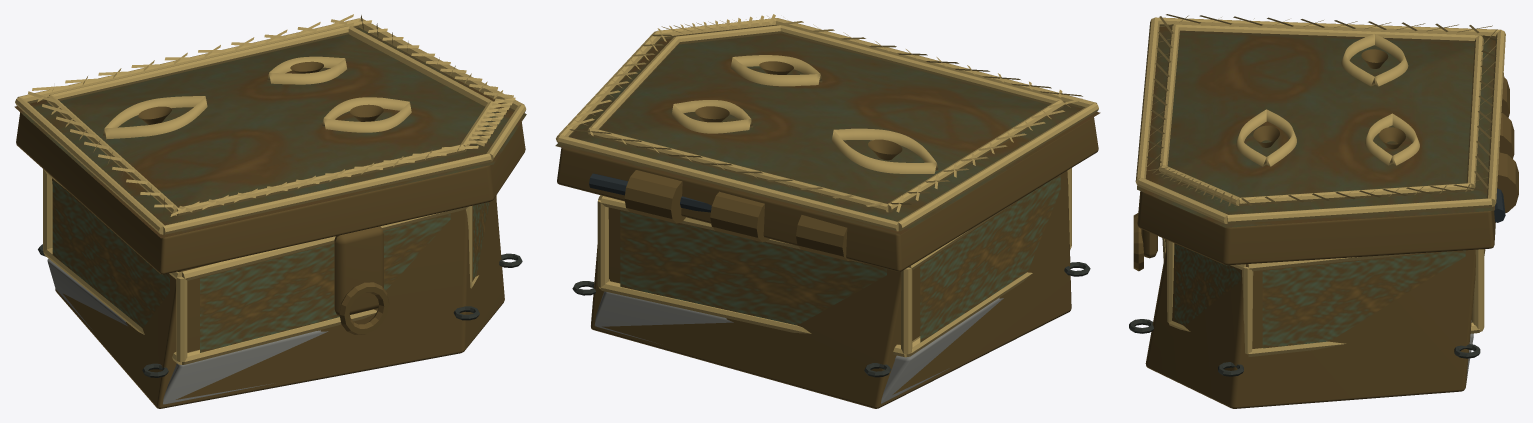
The picture shows the model from 3 angles, left to right: view 1: azimuth 30°, elevation 25°; view 2: azimuth 150°, elevation 25°; view 3: azimuth 270°, elevation 25°; orthographic projection. The views are drawn at different scales.
Visible parts, largest first — view 1: domed sculptural lid relief, five sided leaning bronze shell, lopsided overhanging lid skirt, carved writhing side panel 0, carved writhing side panel 4, adhered silt below tide line, old hasp plate, outer raised lid border, inner raised lid border.003, outer raised lid border.004, inner raised lid border, raised side panel frame.001 (+17 smaller); view 2: domed sculptural lid relief, five sided leaning bronze shell, carved writhing side panel 3, lopsided overhanging lid skirt, carved writhing side panel 4, adhered silt below tide line, outer raised lid border.003, inner raised lid border, inner raised lid border.003, bronze hinge knuckle, outer raised lid border.004, bronze hinge knuckle.001 (+20 smaller); view 3: domed sculptural lid relief, five sided leaning bronze shell, lopsided overhanging lid skirt, carved writhing side panel 2, carved writhing side panel 1, outer raised lid border.002, inner raised lid border.004, outer raised lid border.004, inner raised lid border.002, outer raised lid border.003, outer raised lid border, inner raised lid border.003 (+21 smaller).
Part boxes in pixels (bbox=[...]): domed sculptural lid relief: bbox=[14, 27, 526, 238]; five sided leaning bronze shell: bbox=[52, 178, 504, 408]; lopsided overhanging lid skirt: bbox=[16, 112, 525, 274]; carved writhing side panel 0: bbox=[200, 213, 450, 352]; carved writhing side panel 4: bbox=[52, 180, 169, 328]; adhered silt below tide line: bbox=[47, 259, 328, 404]; old hasp plate: bbox=[334, 226, 383, 315]; outer raised lid border: bbox=[163, 153, 491, 234]; inner raised lid border.003: bbox=[49, 26, 349, 100]; outer raised lid border.004: bbox=[15, 97, 164, 234]; inner raised lid border: bbox=[177, 144, 464, 215]; raised side panel frame.001: bbox=[182, 206, 467, 280]; domed sculptural lid relief: bbox=[555, 33, 1100, 234]; five sided leaning bronze shell: bbox=[591, 171, 1071, 408]; carved writhing side panel 3: bbox=[620, 210, 886, 325]; lopsided overhanging lid skirt: bbox=[557, 117, 1098, 271]; carved writhing side panel 4: bbox=[920, 175, 1060, 342]; adhered silt below tide line: bbox=[594, 291, 1003, 403]; outer raised lid border.003: bbox=[558, 135, 898, 231]; inner raised lid border: bbox=[780, 25, 1062, 104]; inner raised lid border.003: bbox=[589, 128, 888, 212]; bronze hinge knuckle: bbox=[624, 170, 685, 223]; outer raised lid border.004: bbox=[898, 103, 1098, 230]; bronze hinge knuckle.001: bbox=[710, 191, 769, 242]; domed sculptural lid relief: bbox=[1137, 27, 1495, 227]; five sided leaning bronze shell: bbox=[1145, 243, 1485, 408]; lopsided overhanging lid skirt: bbox=[1137, 73, 1504, 265]; carved writhing side panel 2: bbox=[1262, 250, 1465, 348]; carved writhing side panel 1: bbox=[1174, 244, 1240, 325]; outer raised lid border.002: bbox=[1227, 198, 1491, 224]; inner raised lid border.004: bbox=[1176, 24, 1479, 43]; outer raised lid border.004: bbox=[1155, 17, 1500, 38]; inner raised lid border.002: bbox=[1239, 183, 1471, 205]; outer raised lid border.003: bbox=[1486, 30, 1505, 206]; outer raised lid border: bbox=[1135, 17, 1159, 185]; inner raised lid border.003: bbox=[1466, 35, 1483, 190].
Bounding box in the file's own units: 0.4881 × 0.2454 × 0.3964.
7 materials, 2 textured.
